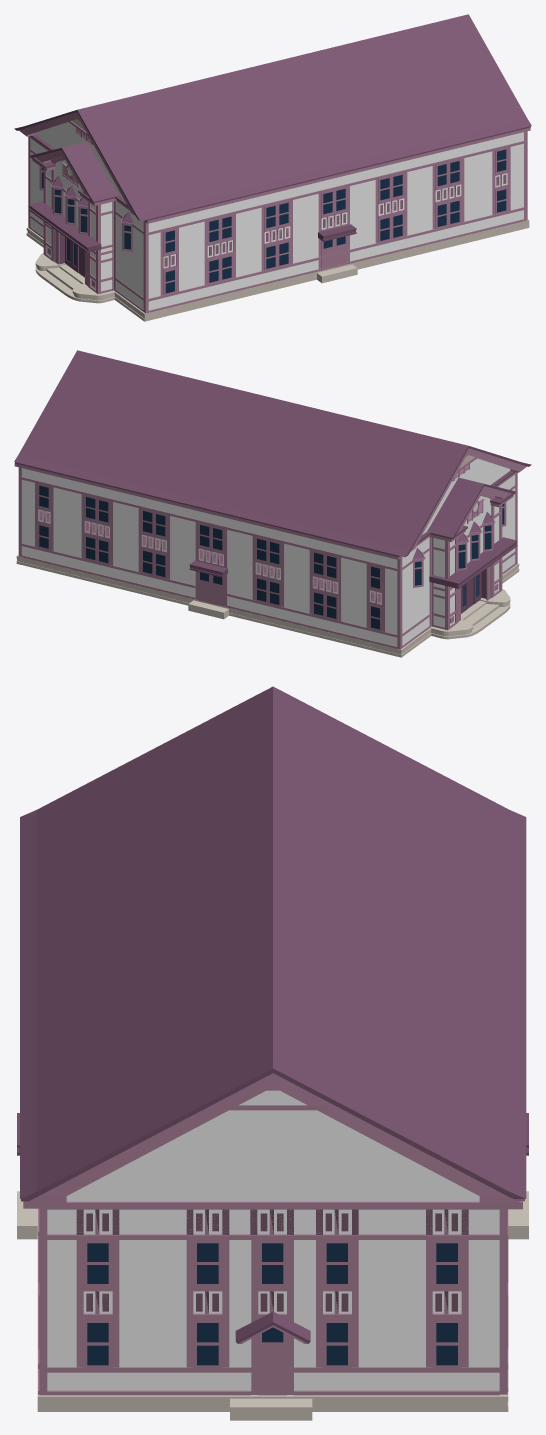
The model's file is Building_E.fbx.
The picture shows the model from 3 angles, top to bottom: view 1: azimuth 30°, elevation 25°; view 2: azimuth 150°, elevation 25°; view 3: azimuth 270°, elevation 25°; orthographic projection. The views are drawn at different scales.
Visible parts, largest first — view 1: Building_E; view 2: Building_E; view 3: Building_E.
Part boxes in pixels (box(x1,y1,x2,y2)): Building_E: box(14, 14, 531, 321); Building_E: box(14, 350, 531, 657); Building_E: box(17, 686, 528, 1420).
Size of the model in its own units: 23.84 by 9.12 by 12.39.
